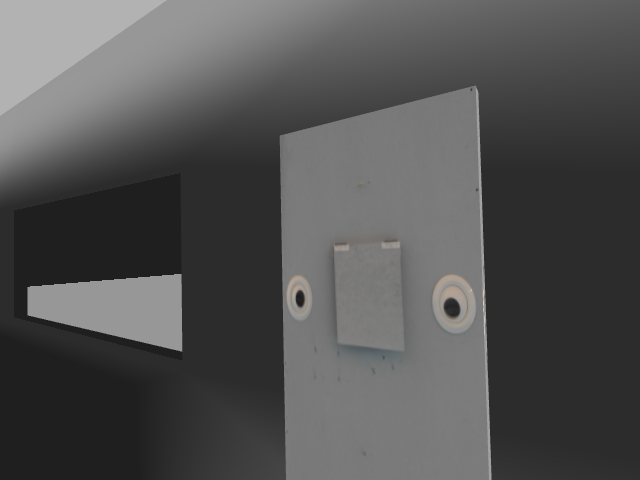facade: (282, 237, 478, 357)
